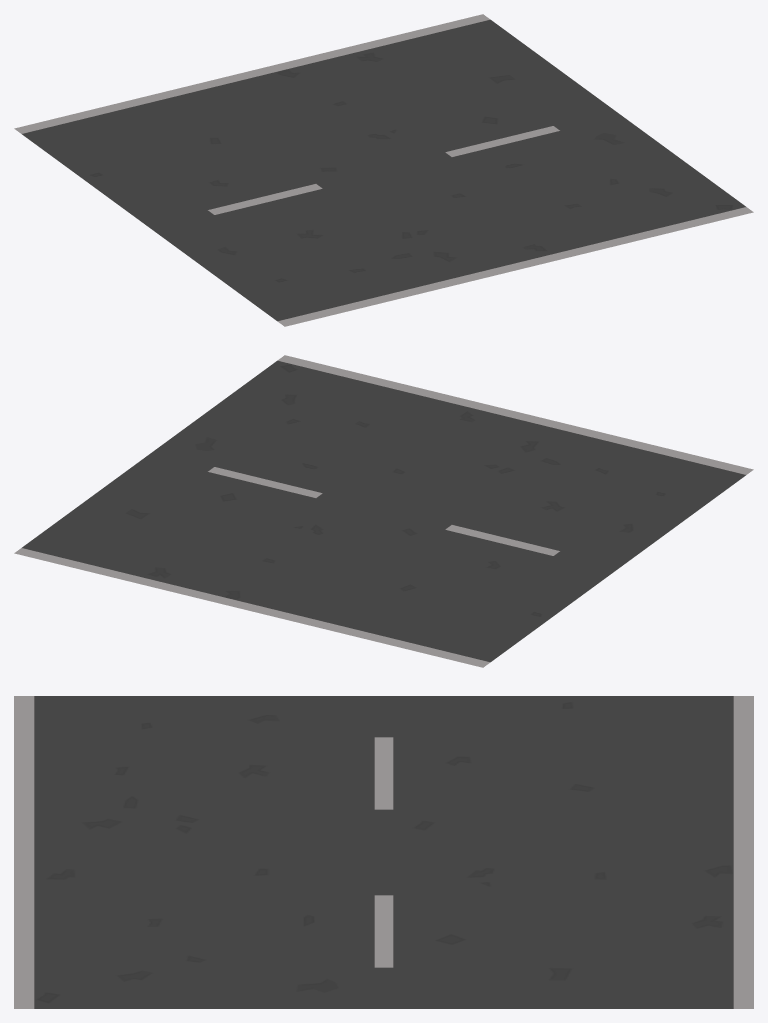
Rendered from SM_Gen_Env_Road_01.fbx.
The picture shows the model from 3 angles, top to bottom: view 1: azimuth 30°, elevation 25°; view 2: azimuth 150°, elevation 25°; view 3: azimuth 270°, elevation 25°; orthographic projection. The views are drawn at different scales.
Visible parts, largest first — view 1: SM_Gen_Env_Road_01; view 2: SM_Gen_Env_Road_01; view 3: SM_Gen_Env_Road_01.
Part boxes in pixels (x1=…): SM_Gen_Env_Road_01: x1=14, y1=14, x2=753, y2=326; SM_Gen_Env_Road_01: x1=14, y1=355, x2=753, y2=667; SM_Gen_Env_Road_01: x1=14, y1=696, x2=753, y2=1008.
Size of the model in its own units: 1000 by 1.06e-17 by 1000.
